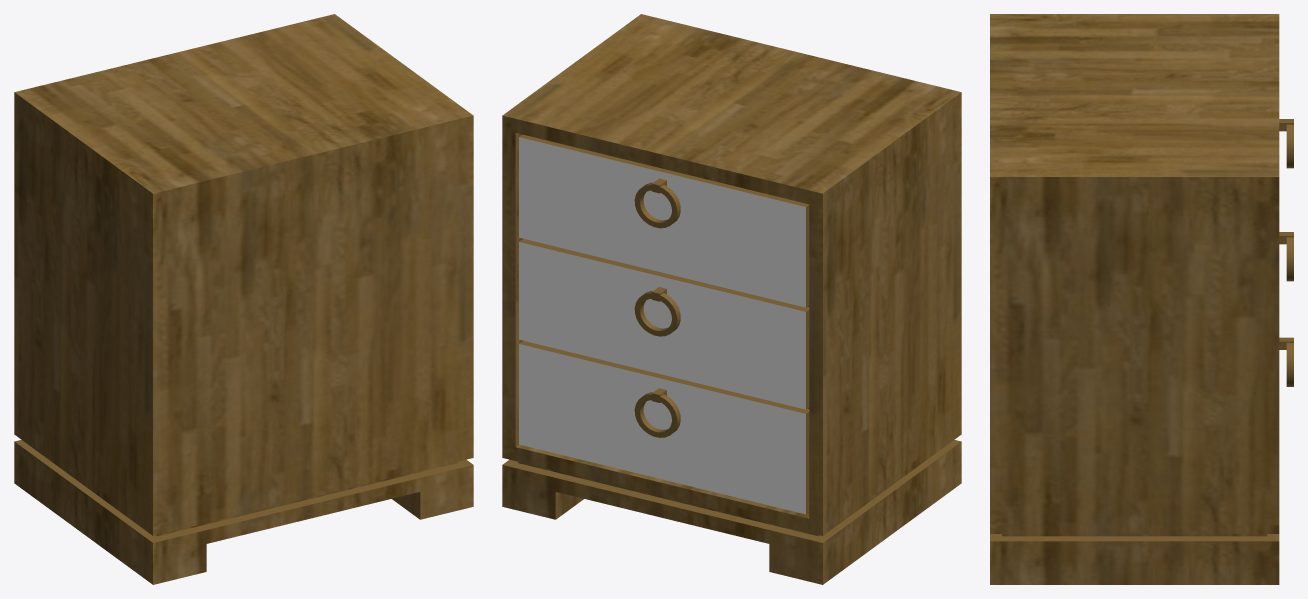
File: skpfile.obj
3 renders of one model, left to right at view 1: azimuth 30°, elevation 25°; view 2: azimuth 150°, elevation 25°; view 3: azimuth 270°, elevation 25°, orthographic. The views are drawn at different scales.
Parts seen in each view (by area): view 1: Mesh7 Group10 bungalow_5_berkely_side_table1 Model; view 2: Mesh7 Group10 bungalow_5_berkely_side_table1 Model, Mesh2 Group3 Group1 bungalow_5_berkely_side_table1 Model, Mesh4 Group6 Group4 bungalow_5_berkely_side_table1 Model, Mesh6 Group9 Group7 bungalow_5_berkely_side_table1 Model; view 3: Mesh7 Group10 bungalow_5_berkely_side_table1 Model.
Boxes of the visible parts, left/top/right/bottom form: Mesh7 Group10 bungalow_5_berkely_side_table1 Model: left=14, top=14, right=473, bottom=584; Mesh7 Group10 bungalow_5_berkely_side_table1 Model: left=502, top=14, right=961, bottom=584; Mesh2 Group3 Group1 bungalow_5_berkely_side_table1 Model: left=634, top=182, right=680, bottom=228; Mesh4 Group6 Group4 bungalow_5_berkely_side_table1 Model: left=634, top=392, right=680, bottom=437; Mesh6 Group9 Group7 bungalow_5_berkely_side_table1 Model: left=634, top=291, right=680, bottom=336; Mesh7 Group10 bungalow_5_berkely_side_table1 Model: left=990, top=14, right=1279, bottom=584.
Bounding box in the file's own units: 24 × 28 × 18.91.
Materials: 3 (1 with a texture image).
